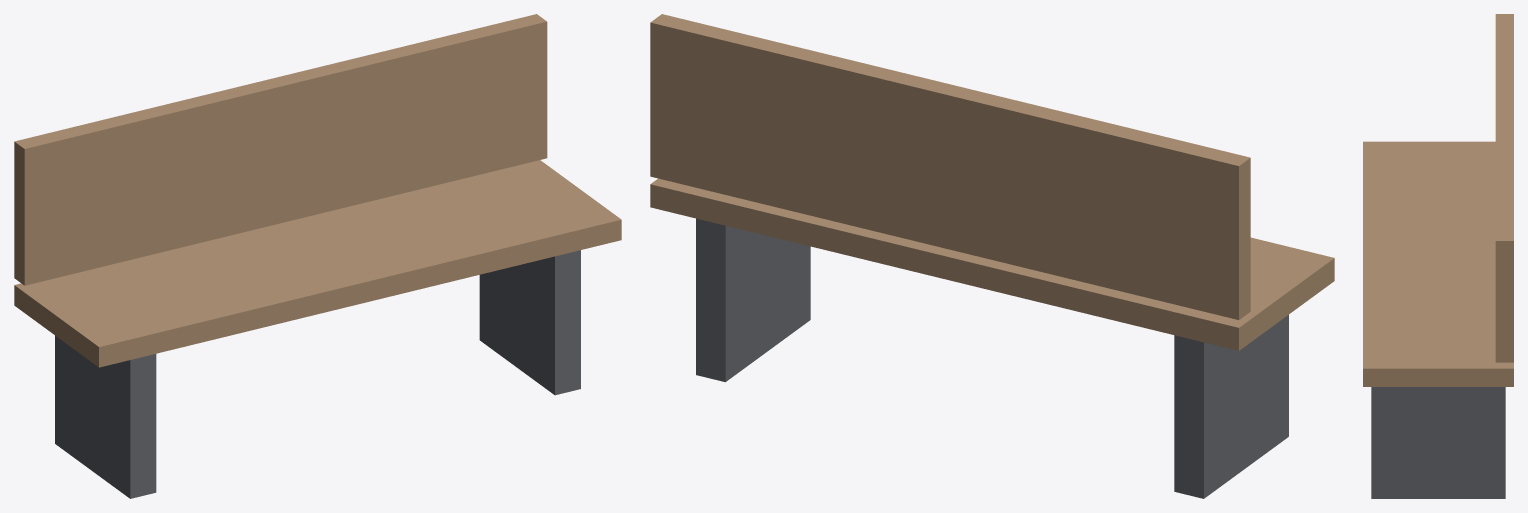
The model's file is bench.glb.
The picture shows the model from 3 angles, left to right: view 1: azimuth 30°, elevation 25°; view 2: azimuth 150°, elevation 25°; view 3: azimuth 270°, elevation 25°; orthographic projection. The views are drawn at different scales.
Visible parts, largest first — view 1: bench; view 2: bench; view 3: bench.
Part boxes in pixels (box(x1,y1,x2,y2)): bench: box(14, 14, 621, 498); bench: box(650, 14, 1334, 498); bench: box(1363, 14, 1513, 498).
Bounding box in the file's own units: 1.6 × 0.9 × 0.45.
